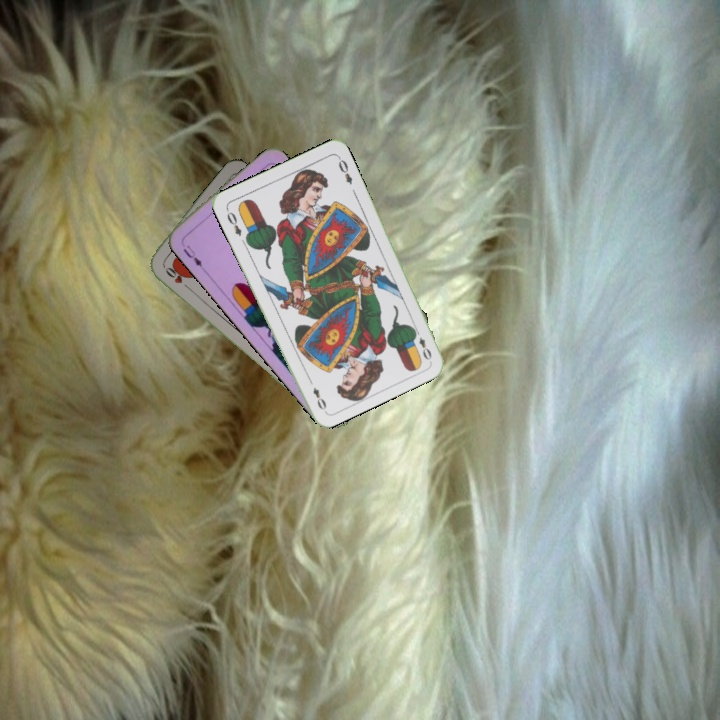EO: (410, 324, 434, 363), (222, 205, 244, 239)
EU: (179, 241, 205, 270)
HO: (159, 262, 193, 293)
